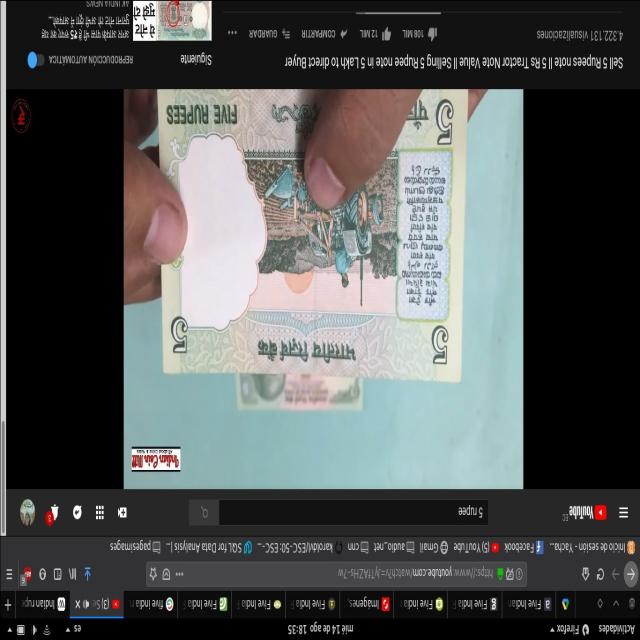5IndianRupees: (162, 90, 463, 380)
